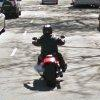Motorcycle: (28, 22, 70, 85)
